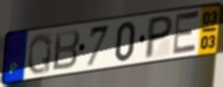0: (113, 20, 137, 63)
7: (86, 24, 112, 68)
B: (51, 28, 82, 73)
E: (171, 9, 201, 58)
P: (142, 13, 175, 61)
Q: (26, 32, 53, 76)
